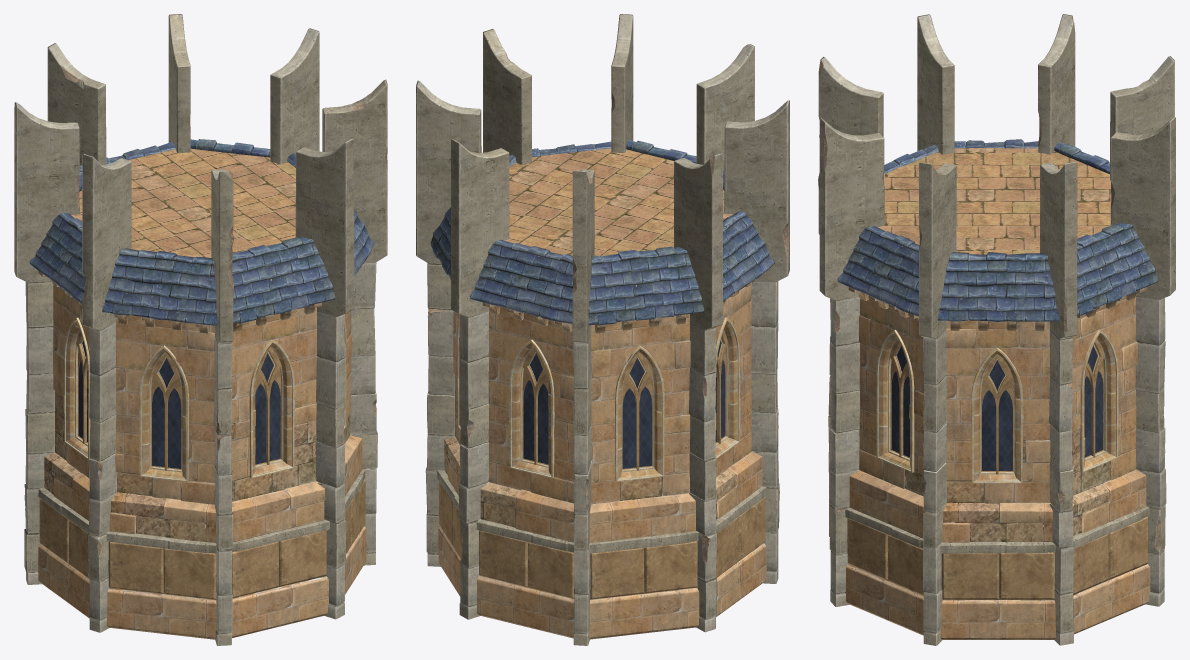
The picture shows the model from 3 angles, left to right: view 1: azimuth 30°, elevation 25°; view 2: azimuth 150°, elevation 25°; view 3: azimuth 270°, elevation 25°; orthographic projection.
Visible parts, largest first — view 1: SM_Magic_Insitute_02v01_LOD0; view 2: SM_Magic_Insitute_02v01_LOD0; view 3: SM_Magic_Insitute_02v01_LOD0.
Part boxes in pixels (x1,y1,x2,y2): SM_Magic_Insitute_02v01_LOD0: (14, 14, 387, 645); SM_Magic_Insitute_02v01_LOD0: (416, 14, 789, 645); SM_Magic_Insitute_02v01_LOD0: (818, 14, 1175, 645).
Size of the model in its own units: 12.44 by 18.66 by 12.46.
8 materials, 8 textured.
